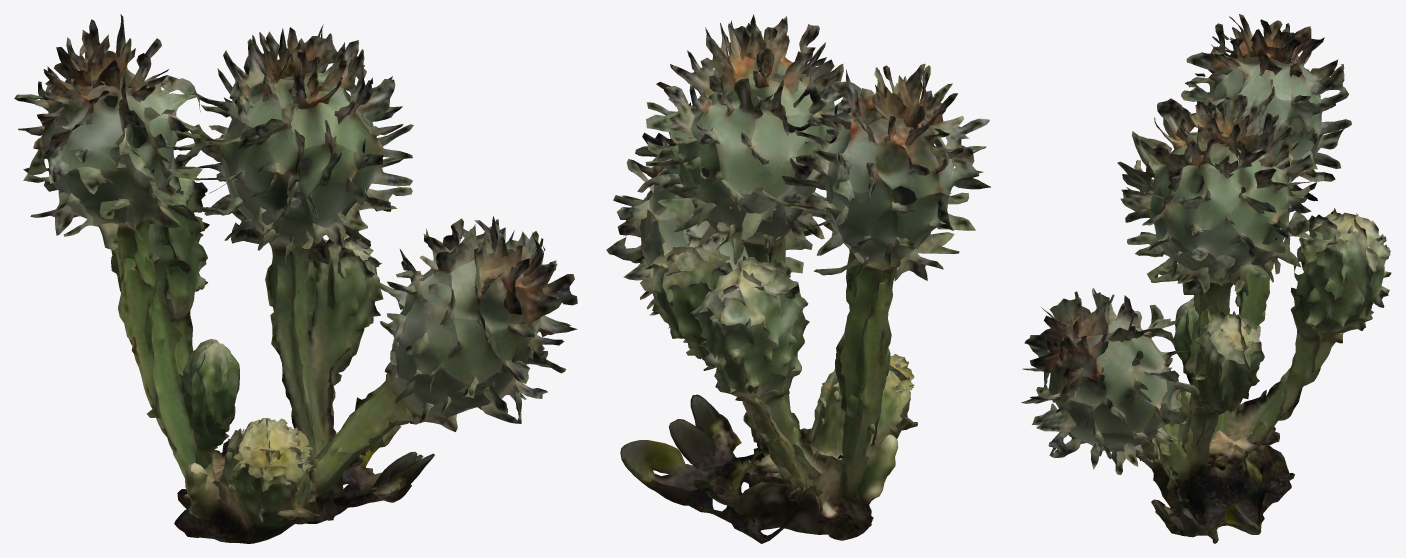
Rendered from prickly-pear.glb.
The picture shows the model from 3 angles, left to right: view 1: azimuth 30°, elevation 25°; view 2: azimuth 150°, elevation 25°; view 3: azimuth 270°, elevation 25°; orthographic projection. The views are drawn at different scales.
Visible parts, largest first — view 1: cacti-b_s42_m.glb; view 2: cacti-b_s42_m.glb; view 3: cacti-b_s42_m.glb.
Boxes of the visible parts, bbox=[...] form: cacti-b_s42_m.glb: bbox=[14, 14, 577, 543]; cacti-b_s42_m.glb: bbox=[606, 14, 990, 543]; cacti-b_s42_m.glb: bbox=[1021, 14, 1391, 543].
Size of the model in its own units: 0.9324 by 1 by 0.7931.
Materials: 1 (1 with a texture image).
